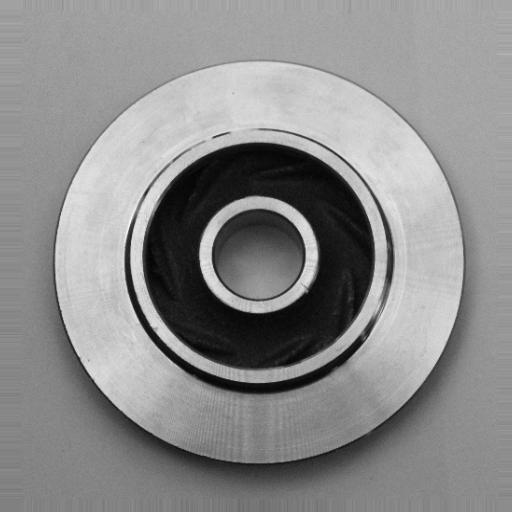unpolished_casting: (52, 57, 468, 467)
